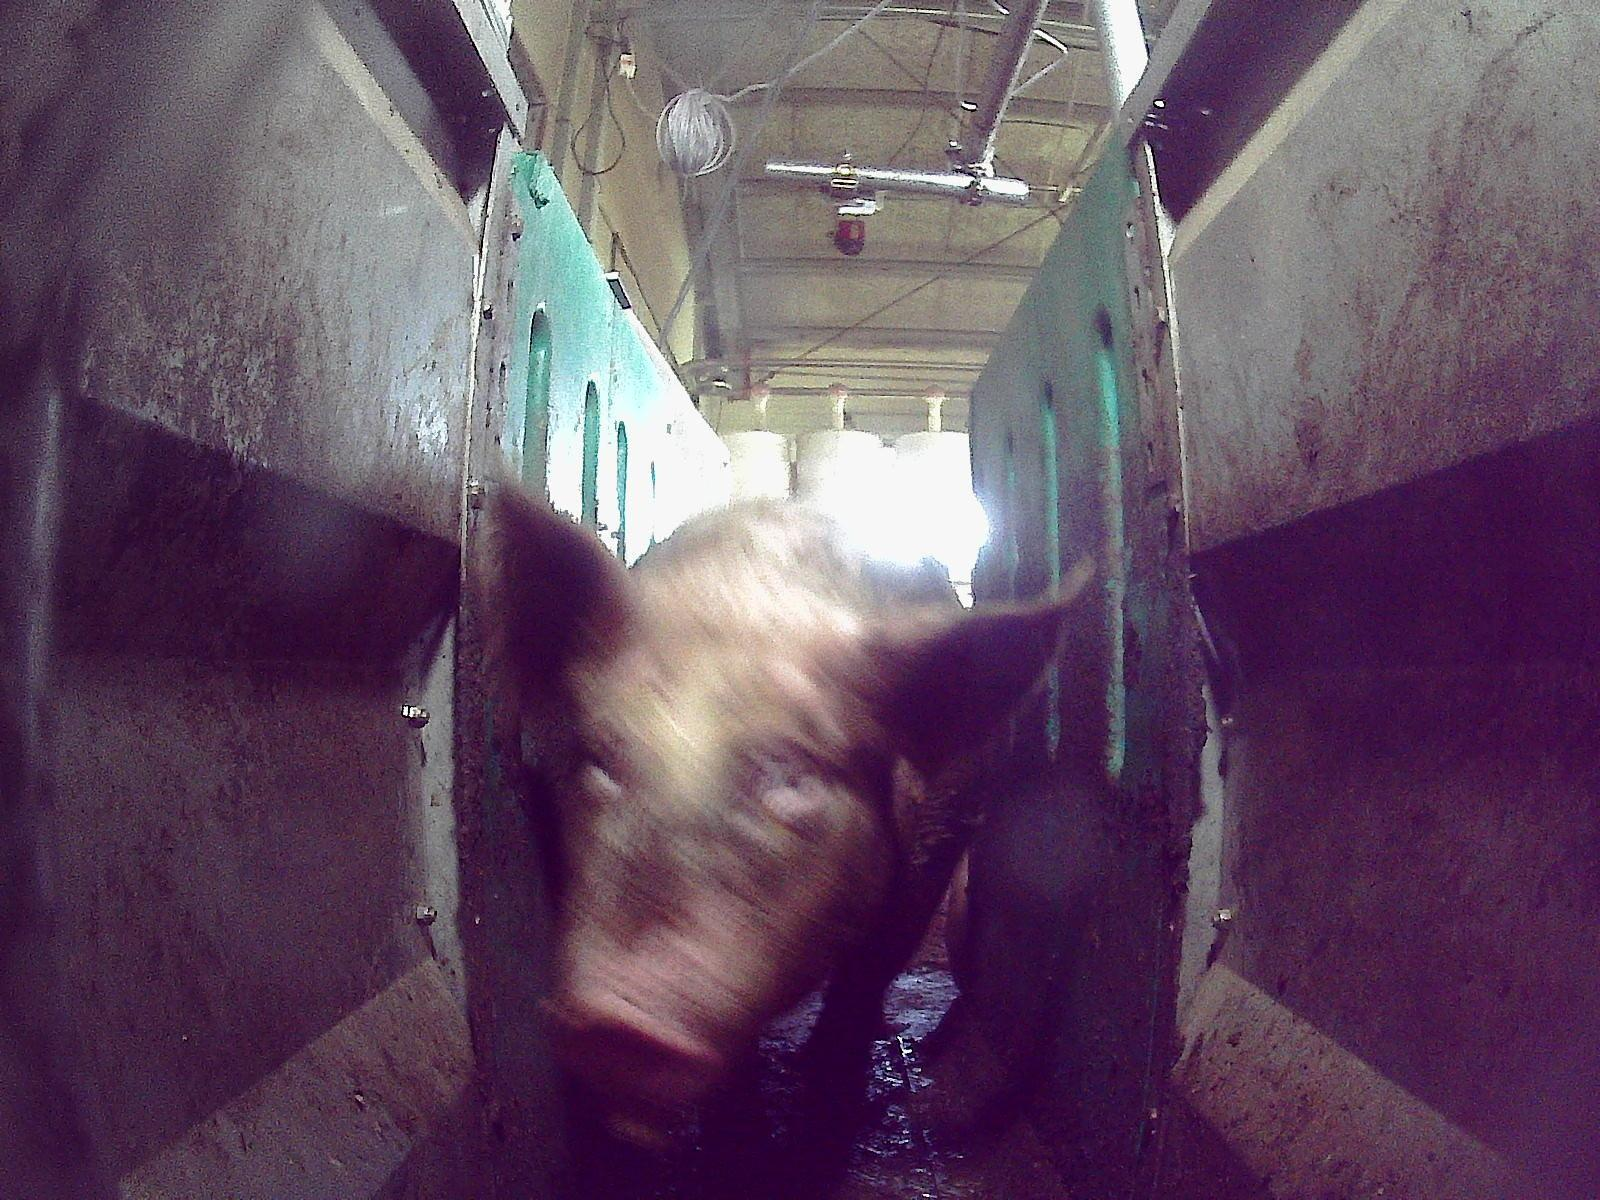Face: (542, 592, 905, 1116)
